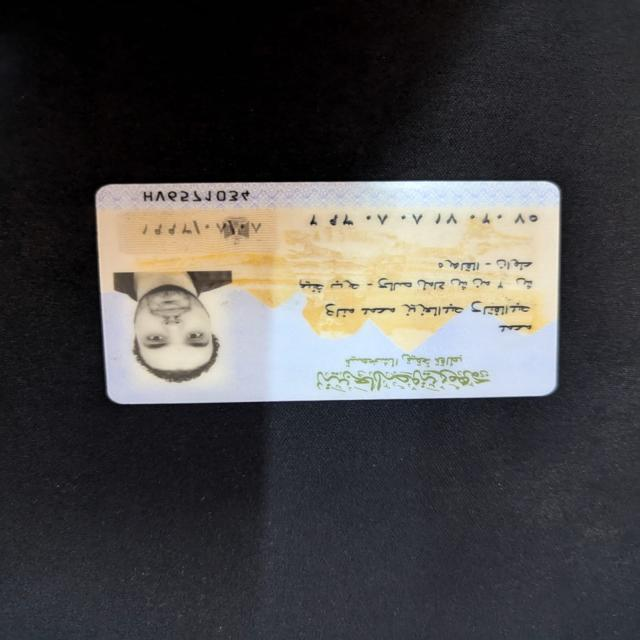id_card: (84, 168, 570, 409)
